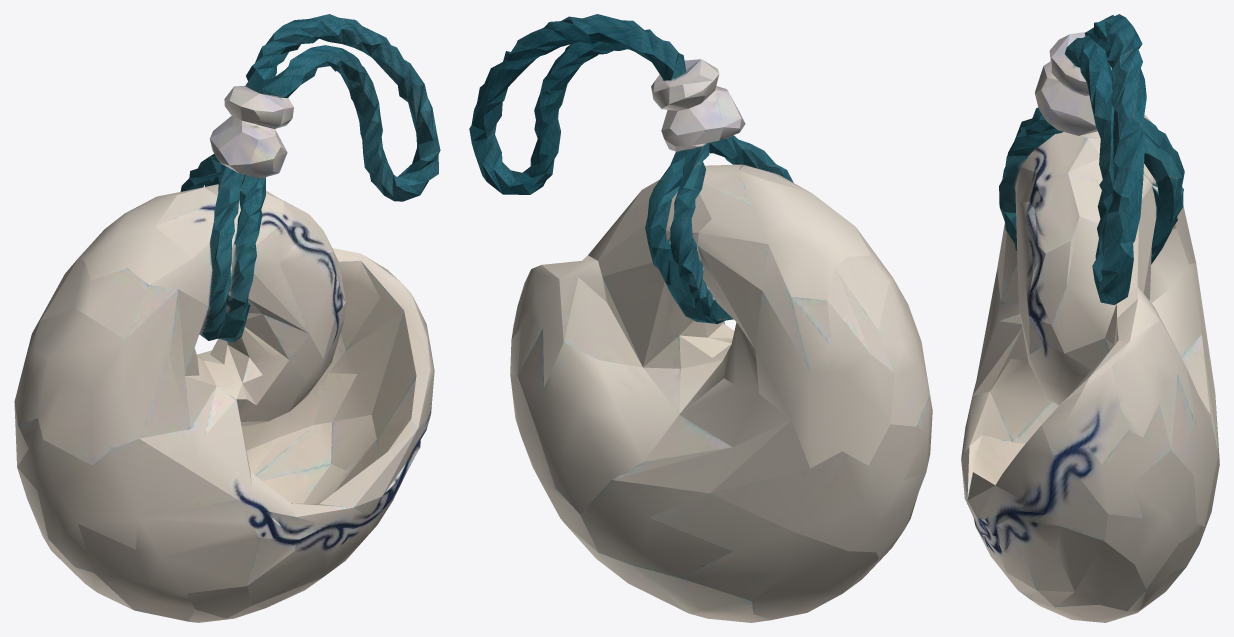
The model's file is east_songbone.glb.
The picture shows the model from 3 angles, left to right: view 1: azimuth 30°, elevation 25°; view 2: azimuth 150°, elevation 25°; view 3: azimuth 270°, elevation 25°; orthographic projection. The views are drawn at different scales.
Parts seen in each view (by area): view 1: Mesh_0; view 2: Mesh_0; view 3: Mesh_0.
Boxes of the visible parts, bbox=[...] form: Mesh_0: bbox=[14, 14, 440, 622]; Mesh_0: bbox=[469, 14, 932, 622]; Mesh_0: bbox=[961, 14, 1219, 622].
Size of the model in its own units: 0.7175 by 0.9 by 0.3365.
Materials: 1 (1 with a texture image).
